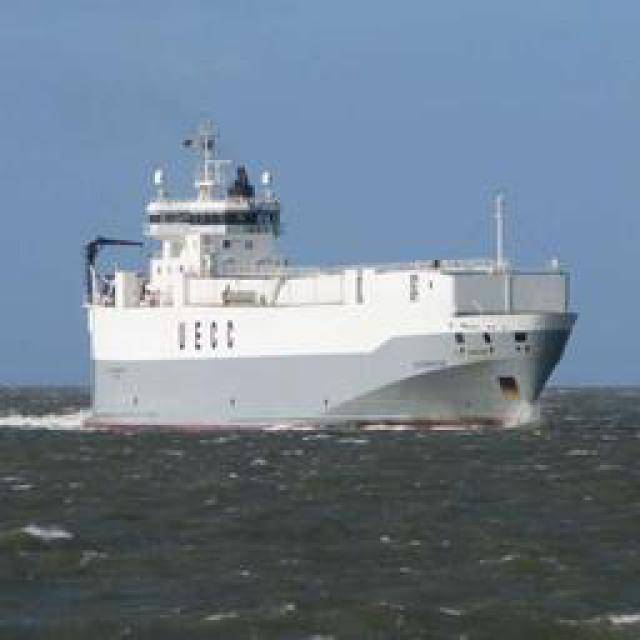Ship: (66, 119, 579, 432)
